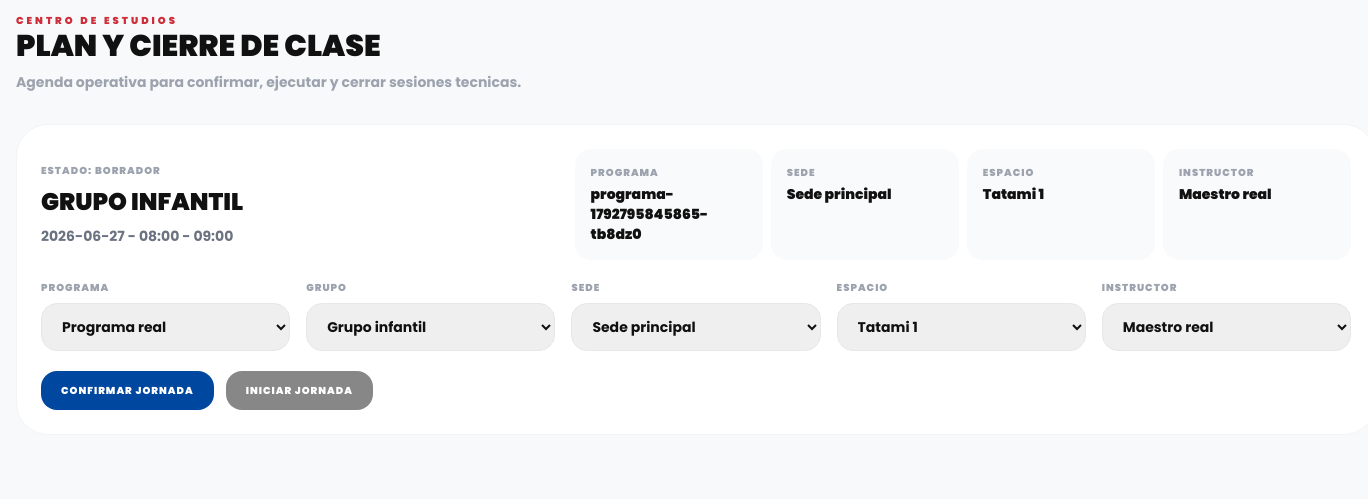
Test case: JornadasView › bloquea confirmacion y muestra mensaje especifico si el conflicto es de espacio
What coordinates should you click on to do the following:
click the button "Confirmar jornada"
I would click on:
 (127, 390)
Its box is [41,371,214,410].
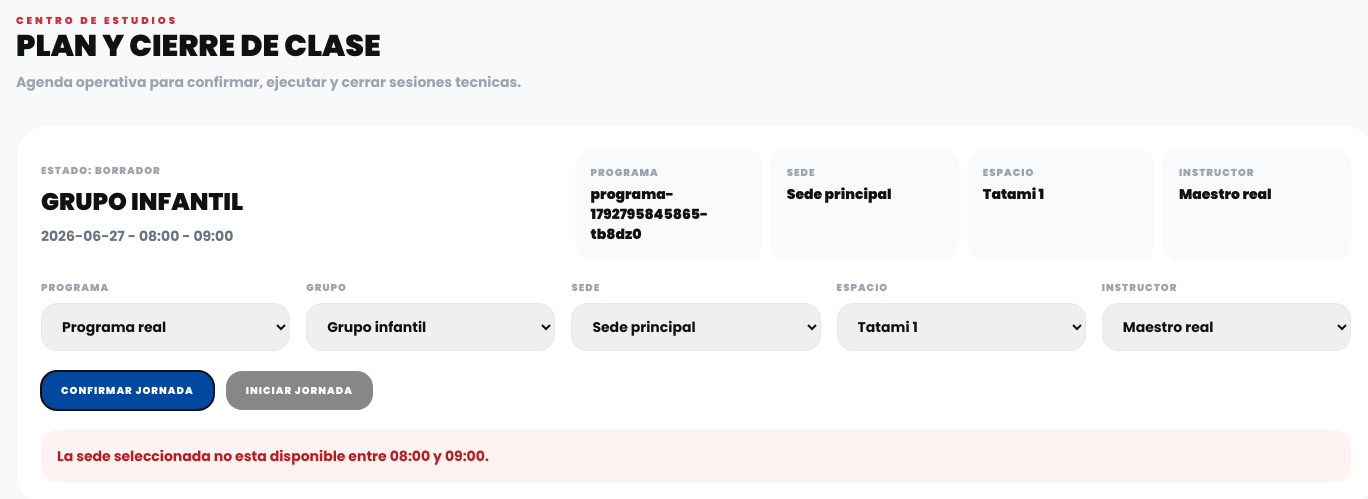
Check: the text "La sede seleccionada no esta disponible entre 08:00 y 09:00." is shown, box [41,430,1351,482]
